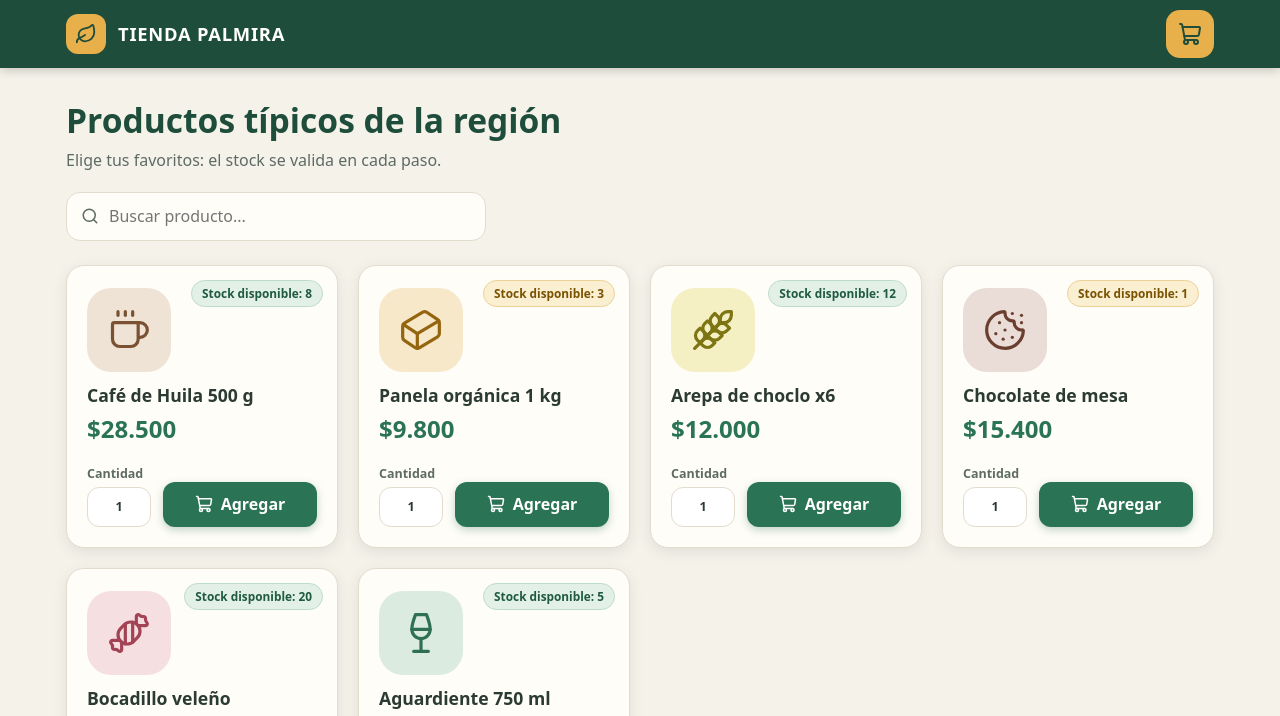
Reto carrito de compras - casos de prueba del instructor › 5. escribir 999 con stock 8 corrige a 8 y muestra el toast
Replace the text in the field labelled "Cantidad" below "$28.500" with "999" at [119, 507], box [87,487,151,527]
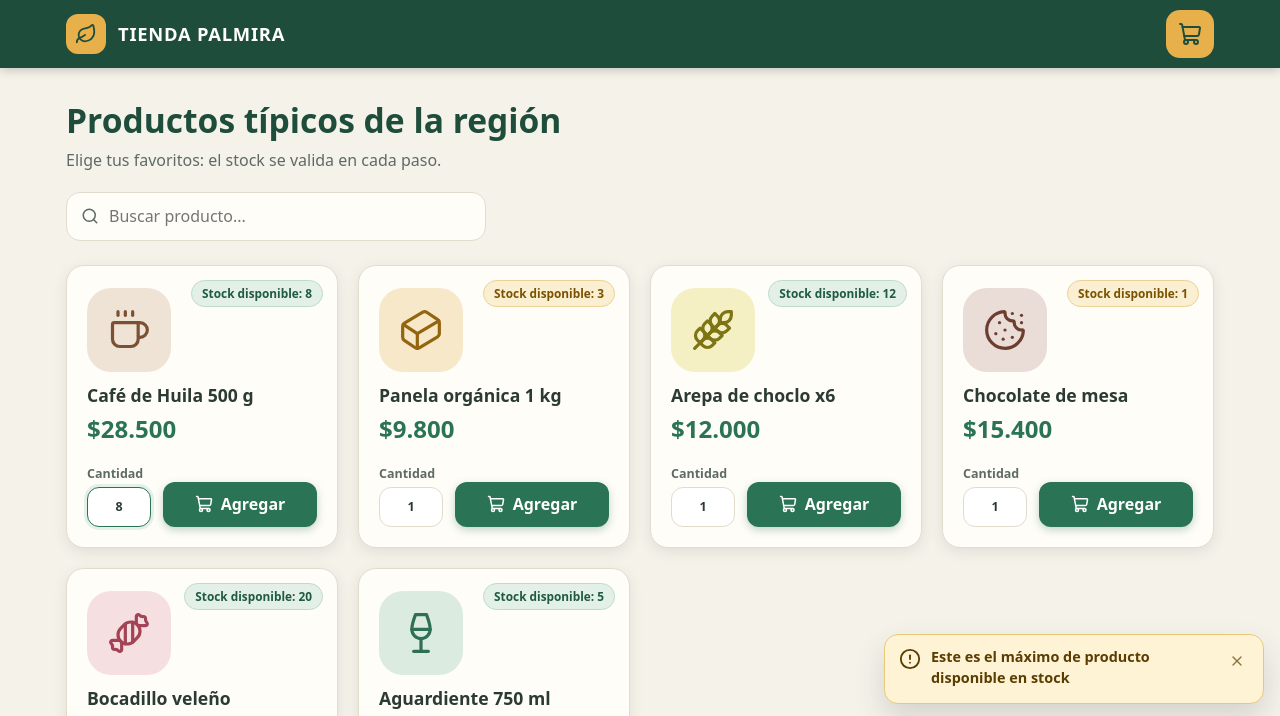
expect the field labelled "Cantidad" below "$28.500" holds "8": met, box [87,487,151,527]
expect the text "Este es el máximo de producto disponible en stock" is shown: met, box [931,647,1150,687]
